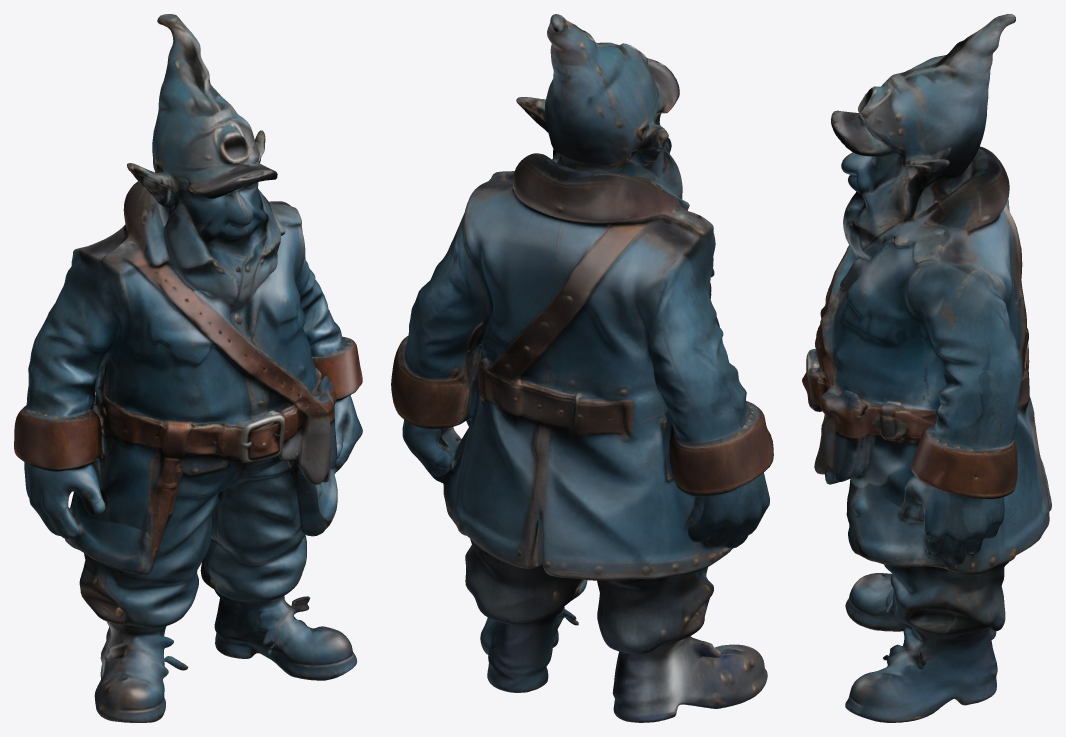
The model's file is A_hyper_realistic_3D__0210165820_texture.fbx.
3 renders of one model, left to right at view 1: azimuth 30°, elevation 25°; view 2: azimuth 150°, elevation 25°; view 3: azimuth 270°, elevation 25°, orthographic. The views are drawn at different scales.
Visible parts, largest first — view 1: Mesh1_Mesh1.103; view 2: Mesh1_Mesh1.103; view 3: Mesh1_Mesh1.103.
Part boxes in pixels (x1,y1,x2,y2): Mesh1_Mesh1.103: (14,14,362,722); Mesh1_Mesh1.103: (391,14,773,722); Mesh1_Mesh1.103: (802,14,1051,722).
Bounding box in the file's own units: 99.06 × 180 × 62.6.
1 material, 1 textured.
